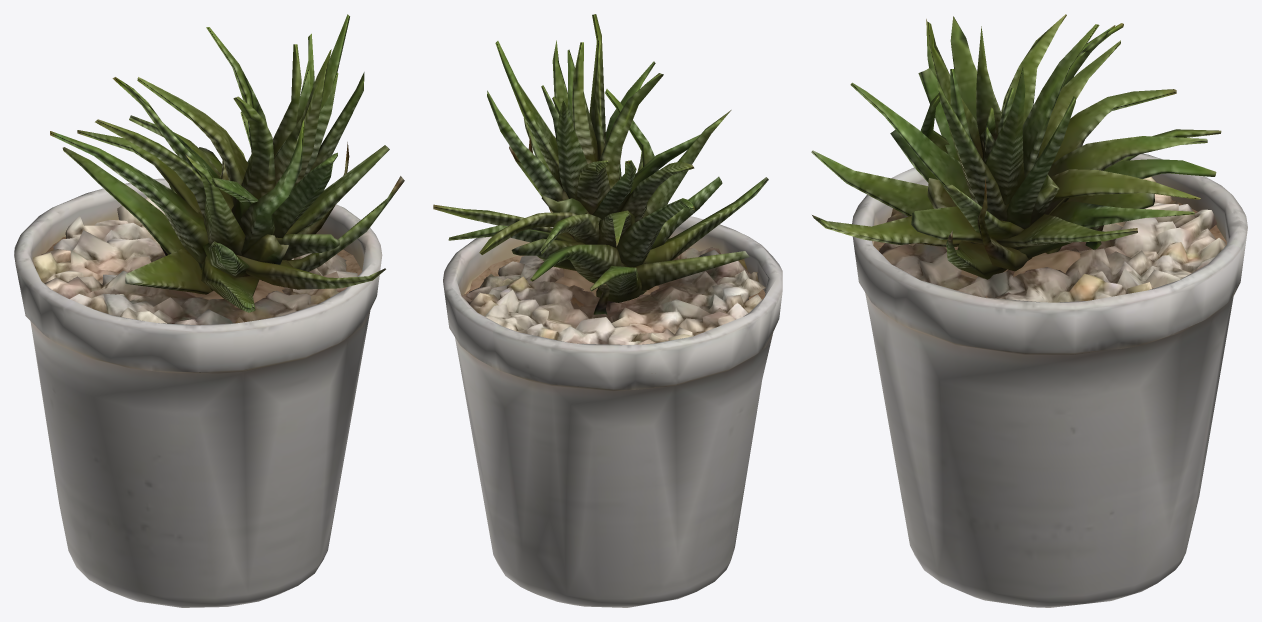
Rendered from potted_plant_04.glb.
The picture shows the model from 3 angles, left to right: view 1: azimuth 30°, elevation 25°; view 2: azimuth 150°, elevation 25°; view 3: azimuth 270°, elevation 25°; orthographic projection. The views are drawn at different scales.
Visible parts, largest first — view 1: potted_plant_04_ground; view 2: potted_plant_04_ground; view 3: potted_plant_04_ground.
Boxes of the visible parts, <box> form: potted_plant_04_ground: <box>14,14,404,607</box>; potted_plant_04_ground: <box>433,14,782,607</box>; potted_plant_04_ground: <box>811,14,1247,607</box>.
Bounding box in the file's own units: 0.1674 × 0.2671 × 0.184.
1 material, 1 textured.
